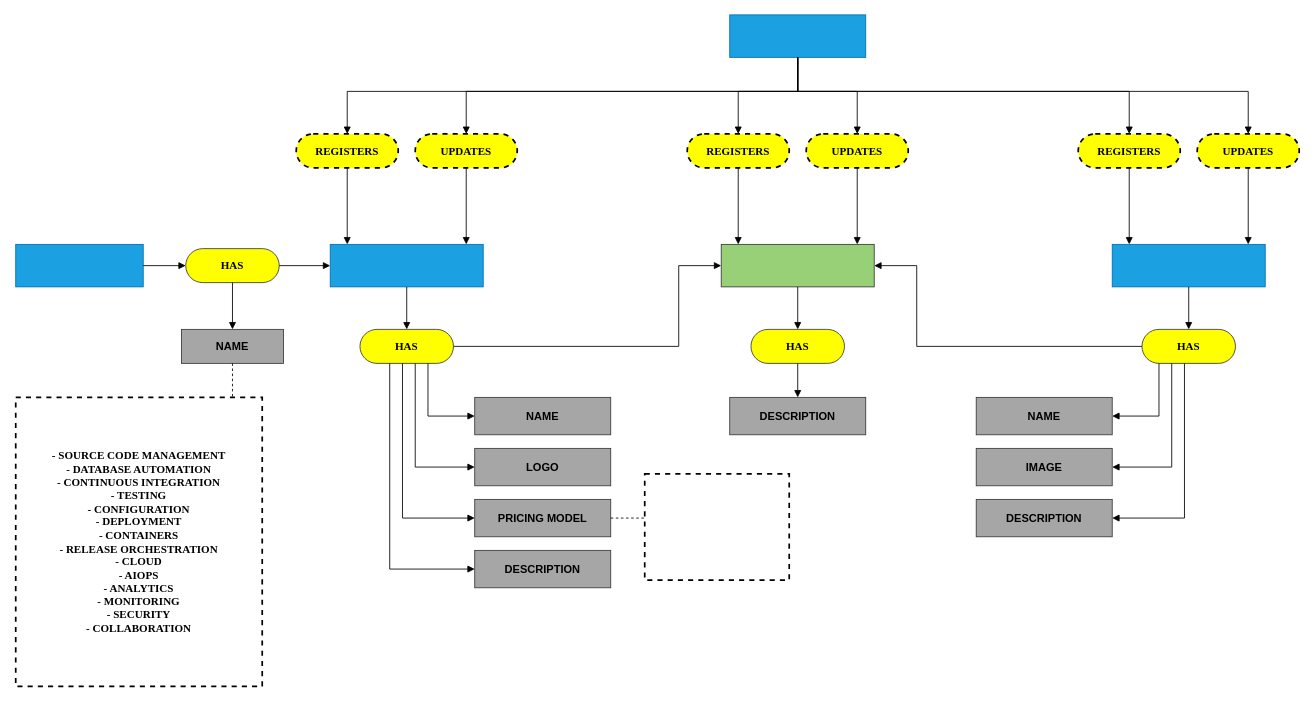
Some shapes in this 1314 by 702 pixel diagram are drawn without their labels. The centre of each missing label's shape, as x and y in pixels:
- OPEN SOURCE - FREE - FREEMIUM - PAID - ENTERPRISE: (x=716, y=527)
CATEGORY: (x=79, y=265)
DEVOPS ENGINEER: (x=797, y=35)
DEVOPS TOOL: (x=406, y=265)
PRACTICE: (x=1188, y=265)
USAGE: (x=797, y=265)
